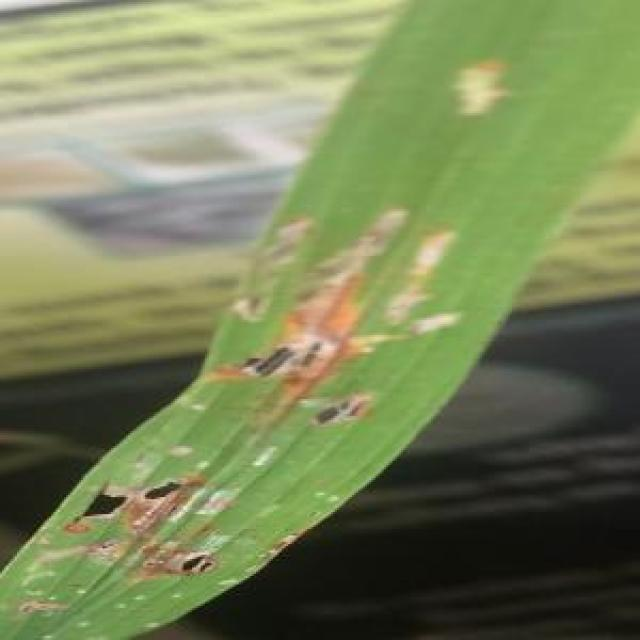Bacterial_Blight: (212, 211, 405, 408), (385, 224, 469, 338), (80, 466, 211, 532), (448, 54, 530, 123), (140, 546, 235, 584)
